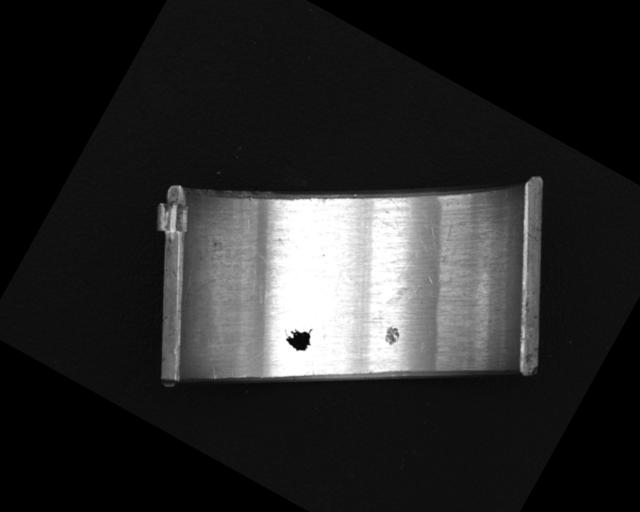blot: (276, 316, 317, 355)
bruise: (379, 322, 404, 348)
nick: (206, 365, 221, 381)
